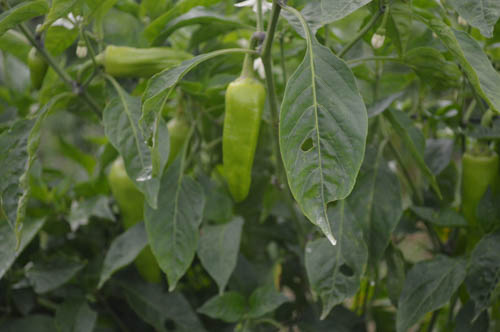ChiliPepper: (111, 162, 160, 282), (219, 82, 266, 204), (455, 152, 496, 251), (103, 44, 202, 79)
